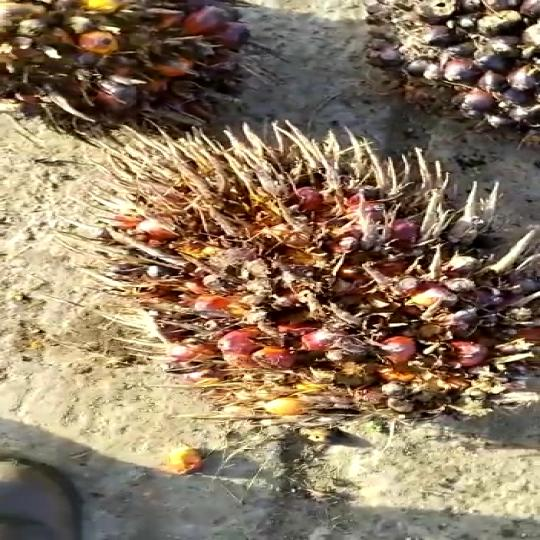terlalu masak: (38, 130, 540, 434)
